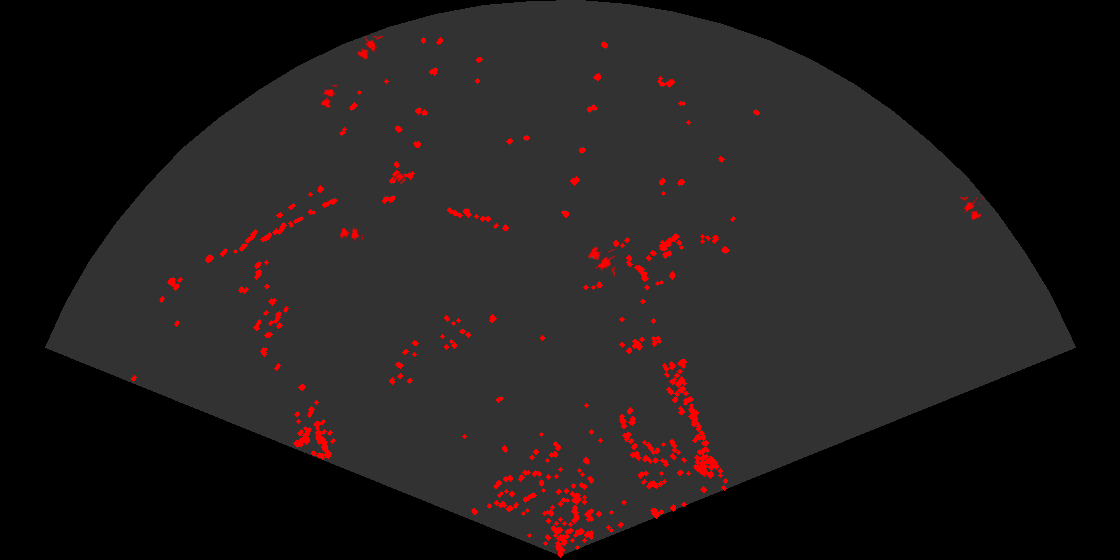ball: (393, 172, 407, 186)
cage: (586, 245, 615, 278), (355, 36, 383, 61), (958, 197, 985, 221), (319, 85, 337, 110), (338, 225, 363, 242)
